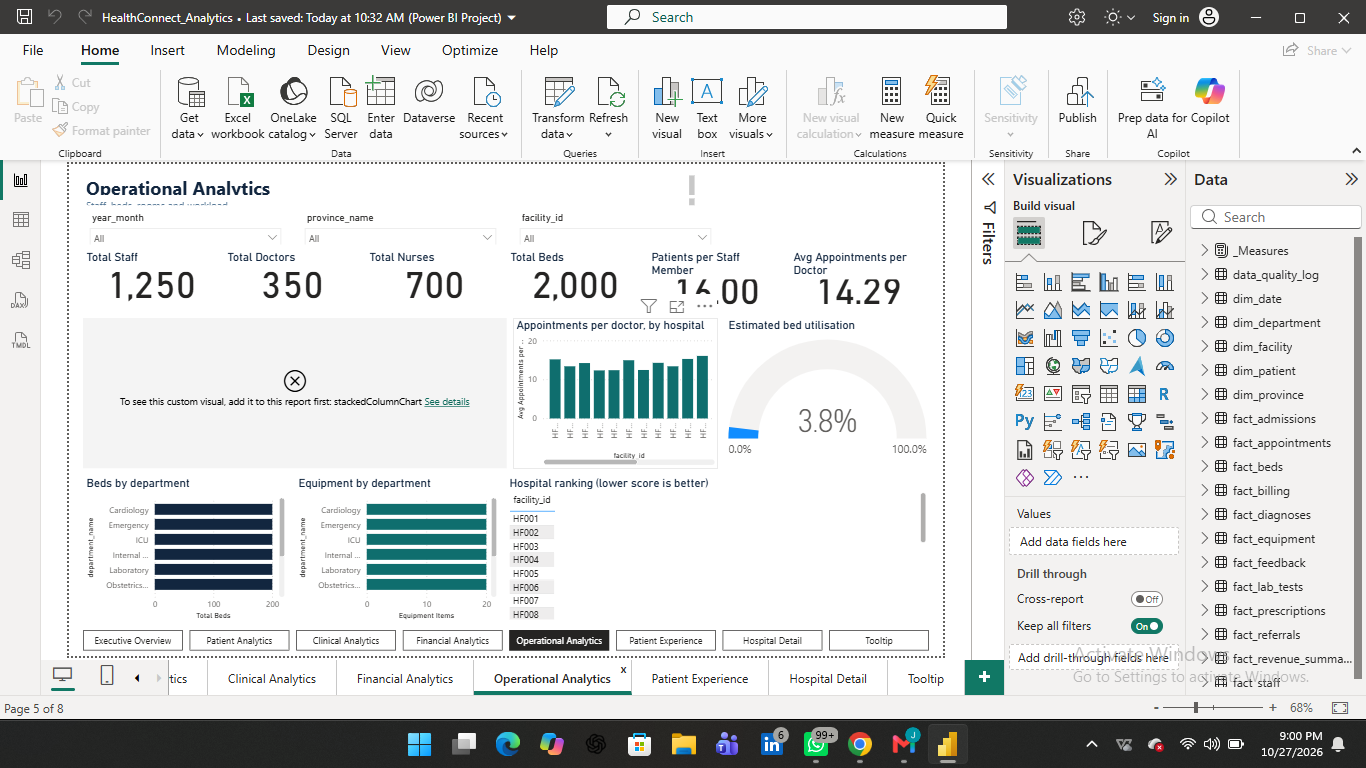

What the dashboard file says about the page in this screenshot:
{"tool":"powerbi","page":{"name":"Operational Analytics","canvas":[1280,720],"ordinal":4},"visuals":[{"type":"textbox","box":[20,12,900,44],"z":0},{"type":"textbox","box":[20,46,900,20],"z":0},{"type":"slicer","fields":{"Values":["dim_date.year_month"]},"box":[20,66,300,52],"z":0},{"type":"slicer","fields":{"Values":["dim_province.province_name"]},"box":[335,66,300,52],"z":0},{"type":"slicer","fields":{"Values":["dim_facility.facility_id"]},"box":[650,66,300,52],"z":0},{"type":"card","title":"Total Staff","fields":{"Values":["_Measures.Total Staff"]},"box":[20,126,200,90],"z":0},{"type":"card","title":"Total Doctors","fields":{"Values":["_Measures.Total Doctors"]},"box":[227,126,200,90],"z":0},{"type":"card","title":"Total Nurses","fields":{"Values":["_Measures.Total Nurses"]},"box":[434,126,200,90],"z":0},{"type":"card","title":"Total Beds","fields":{"Values":["_Measures.Total Beds"]},"box":[641,126,200,90],"z":0},{"type":"card","title":"Patients per Staff Member","fields":{"Values":["_Measures.Patients per Staff Member"]},"box":[848,126,200,90],"z":0},{"type":"card","title":"Avg Appointments per Doctor","fields":{"Values":["_Measures.Avg Appointments per Doctor"]},"box":[1055,126,200,90],"z":0},{"type":"clusteredColumnChart","title":"Appointments per doctor, by hospital","fields":{"Category":["dim_facility.facility_id"],"Y":["_Measures.Avg Appointments per Doctor"]},"box":[650,226,300,220],"z":0},{"type":"gauge","title":"Estimated bed utilisation","fields":{"Y":["_Measures.Bed Utilization Rate"]},"box":[960,226,300,220],"z":0},{"type":"clusteredBarChart","title":"Beds by department","fields":{"Category":["dim_department.department_name"],"Y":["_Measures.Total Beds"]},"box":[20,456,300,215],"z":0},{"type":"clusteredBarChart","title":"Equipment by department","fields":{"Category":["dim_department.department_name"],"Y":["_Measures.Equipment Items"]},"box":[330,456,300,215],"z":0},{"type":"pivotTable","title":"Hospital ranking (lower score is better)","fields":{"Rows":["dim_facility.facility_id"],"Values":["_Measures.Hospital Score","_Measures.Hospital Overall Rank"]},"box":[640,456,620,215],"z":0},{"type":"pageNavigator","box":[20,682,1240,30],"z":1},{"type":"columnChart","fields":{"Category":["dim_facility.facility_id"],"Series":["fact_staff.role"],"Y":["_Measures.Total Staff"]},"box":[20.2,226.8,621.5,220.1],"z":2}]}

Visuals, with their boxes on the page's 1280x720 design canvas (x1, y1, x2, y2). These are canvas units, not pixel positions in the 1366x768 screenshot, which may show the page scaled, cropped or inside an application window:
textbox: 20, 12, 920, 56
textbox: 20, 46, 920, 66
slicer - dim_date.year_month: 20, 66, 320, 118
slicer - dim_province.province_name: 335, 66, 635, 118
slicer - dim_facility.facility_id: 650, 66, 950, 118
"Total Staff" card: 20, 126, 220, 216
"Total Doctors" card: 227, 126, 427, 216
"Total Nurses" card: 434, 126, 634, 216
"Total Beds" card: 641, 126, 841, 216
"Patients per Staff Member" card: 848, 126, 1048, 216
"Avg Appointments per Doctor" card: 1055, 126, 1255, 216
"Appointments per doctor, by hospital" clusteredColumnChart: 650, 226, 950, 446
"Estimated bed utilisation" gauge: 960, 226, 1260, 446
"Beds by department" clusteredBarChart: 20, 456, 320, 671
"Equipment by department" clusteredBarChart: 330, 456, 630, 671
"Hospital ranking (lower score is better)" pivotTable: 640, 456, 1260, 671
pageNavigator: 20, 682, 1260, 712
columnChart - dim_facility.facility_id x fact_staff.role: 20, 227, 642, 447
